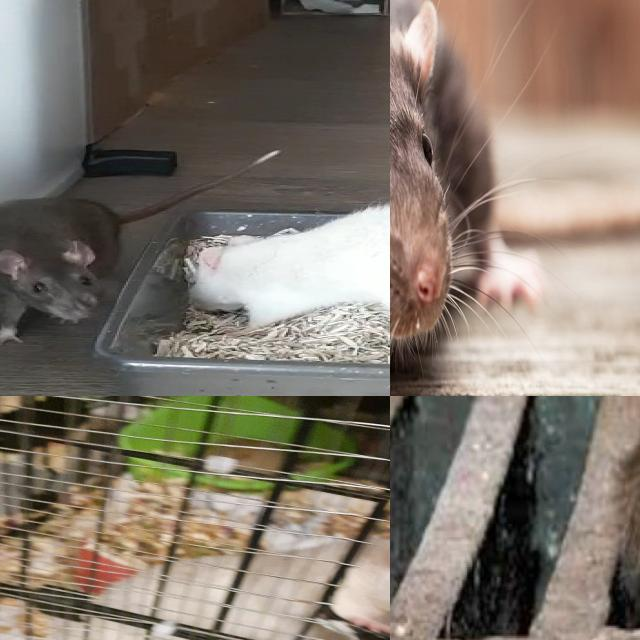rat: (390, 0, 542, 351), (69, 536, 390, 640), (176, 203, 390, 344), (0, 196, 127, 347)
